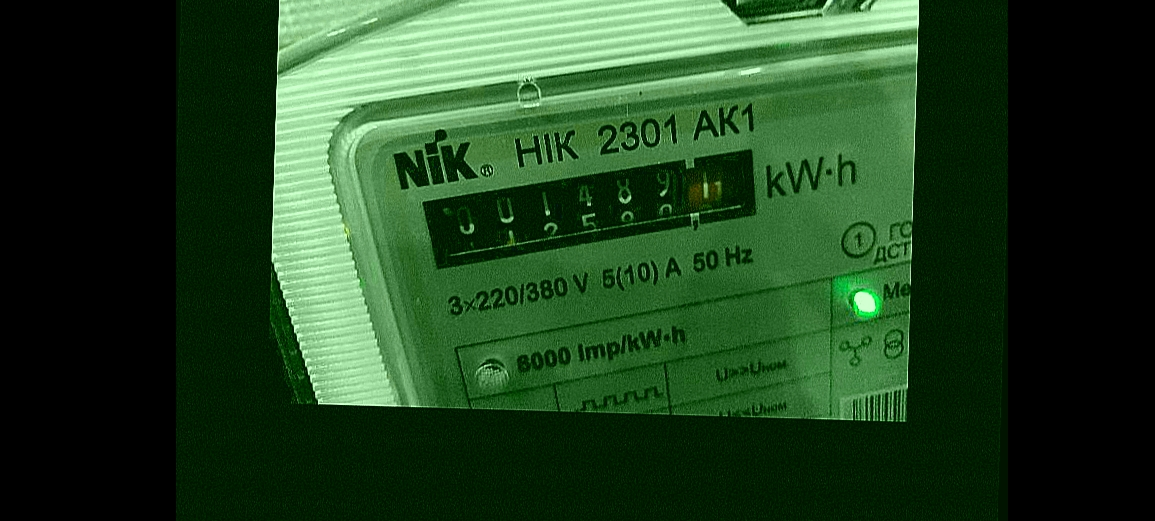0: (489, 190, 516, 226), (451, 202, 476, 238)
1: (693, 164, 713, 202), (534, 187, 555, 218)
4: (572, 178, 595, 210)
8: (612, 171, 634, 208)
9: (651, 166, 672, 199)
screen: (407, 129, 786, 291)
